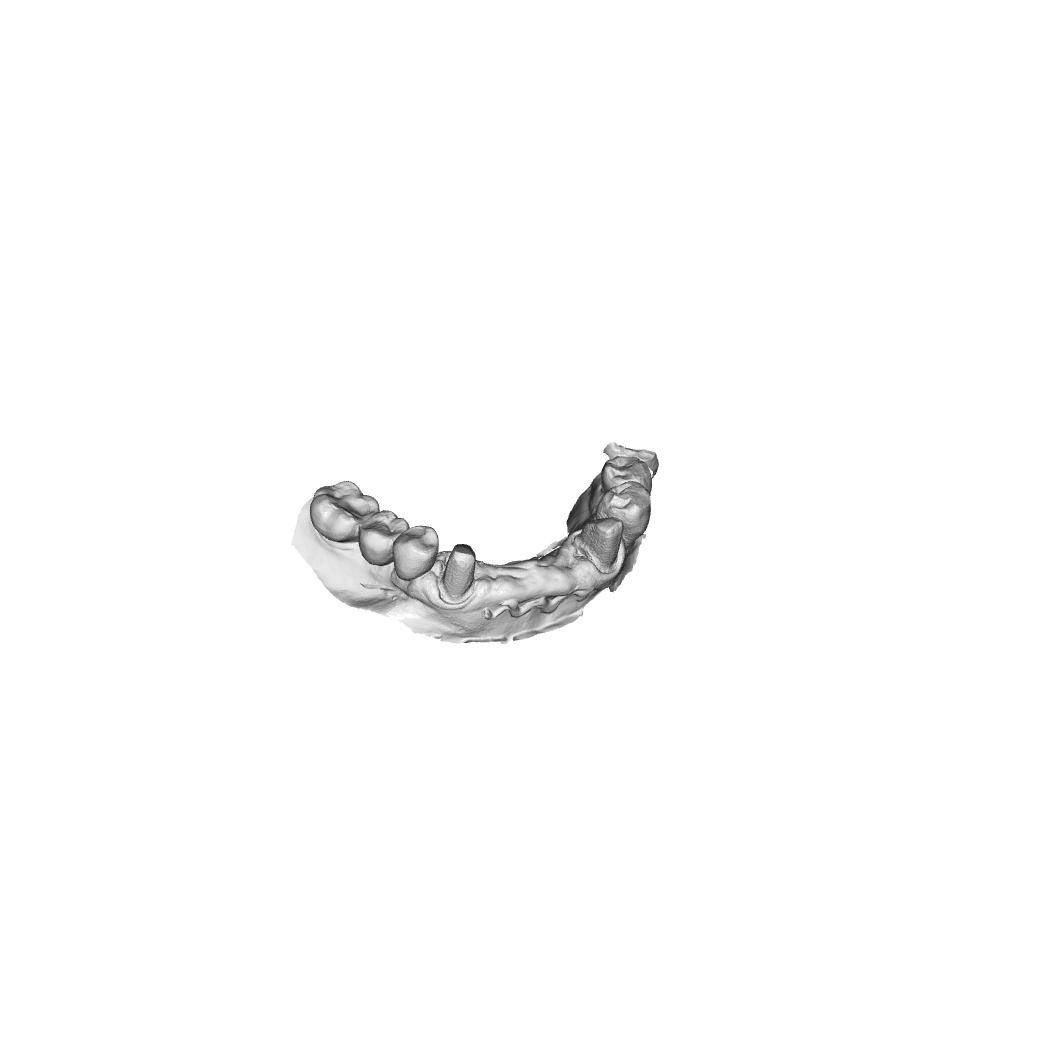crown: (574, 515, 626, 574), (437, 542, 480, 601)
molar: (309, 479, 380, 544)
premolar: (594, 479, 653, 549), (357, 509, 411, 566), (392, 523, 440, 582), (600, 455, 653, 497)
